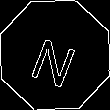N_N: (27, 24, 83, 86)
